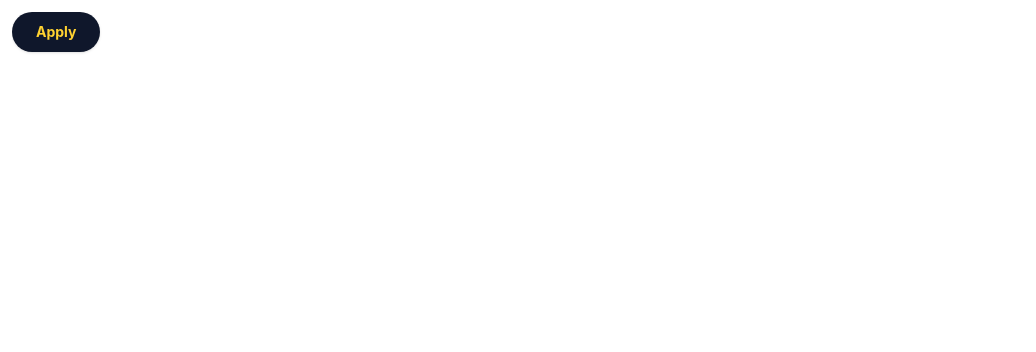
Test: careers client components › shows the server's reason when an application is refused, e.g. the job has closed
The image size is (1036, 352).
Click the button "Apply" at [56, 32], box [12, 12, 100, 52]
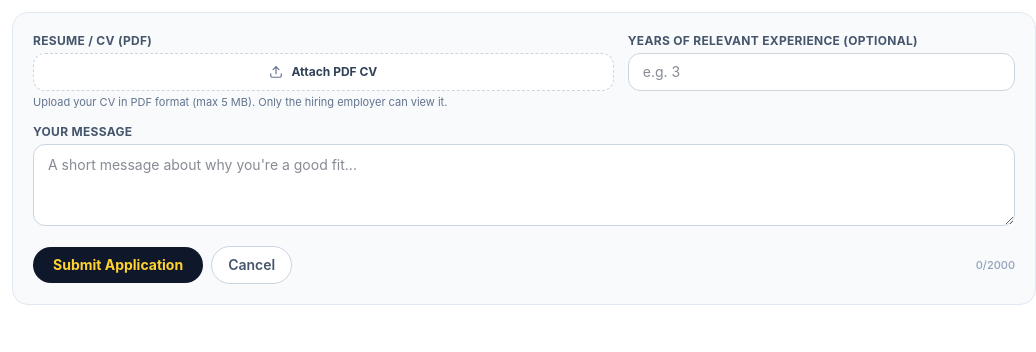
Click the button "Submit Application" at [118, 265], box [33, 247, 203, 283]
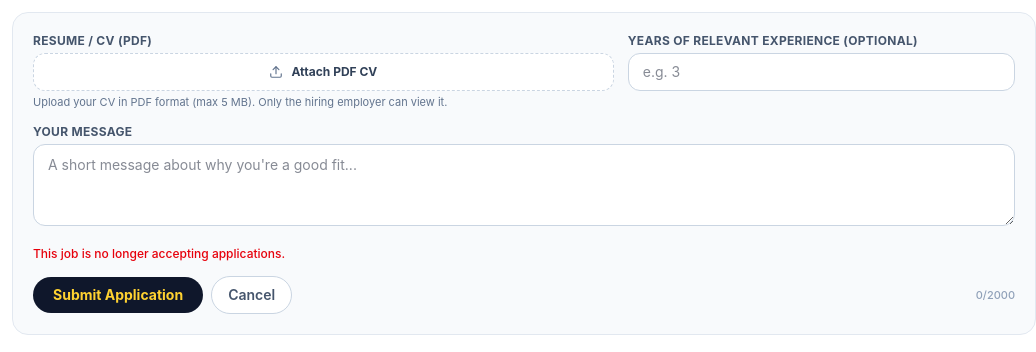
Expected: the message shows "no longer accepting applications", [33, 246, 285, 261]
